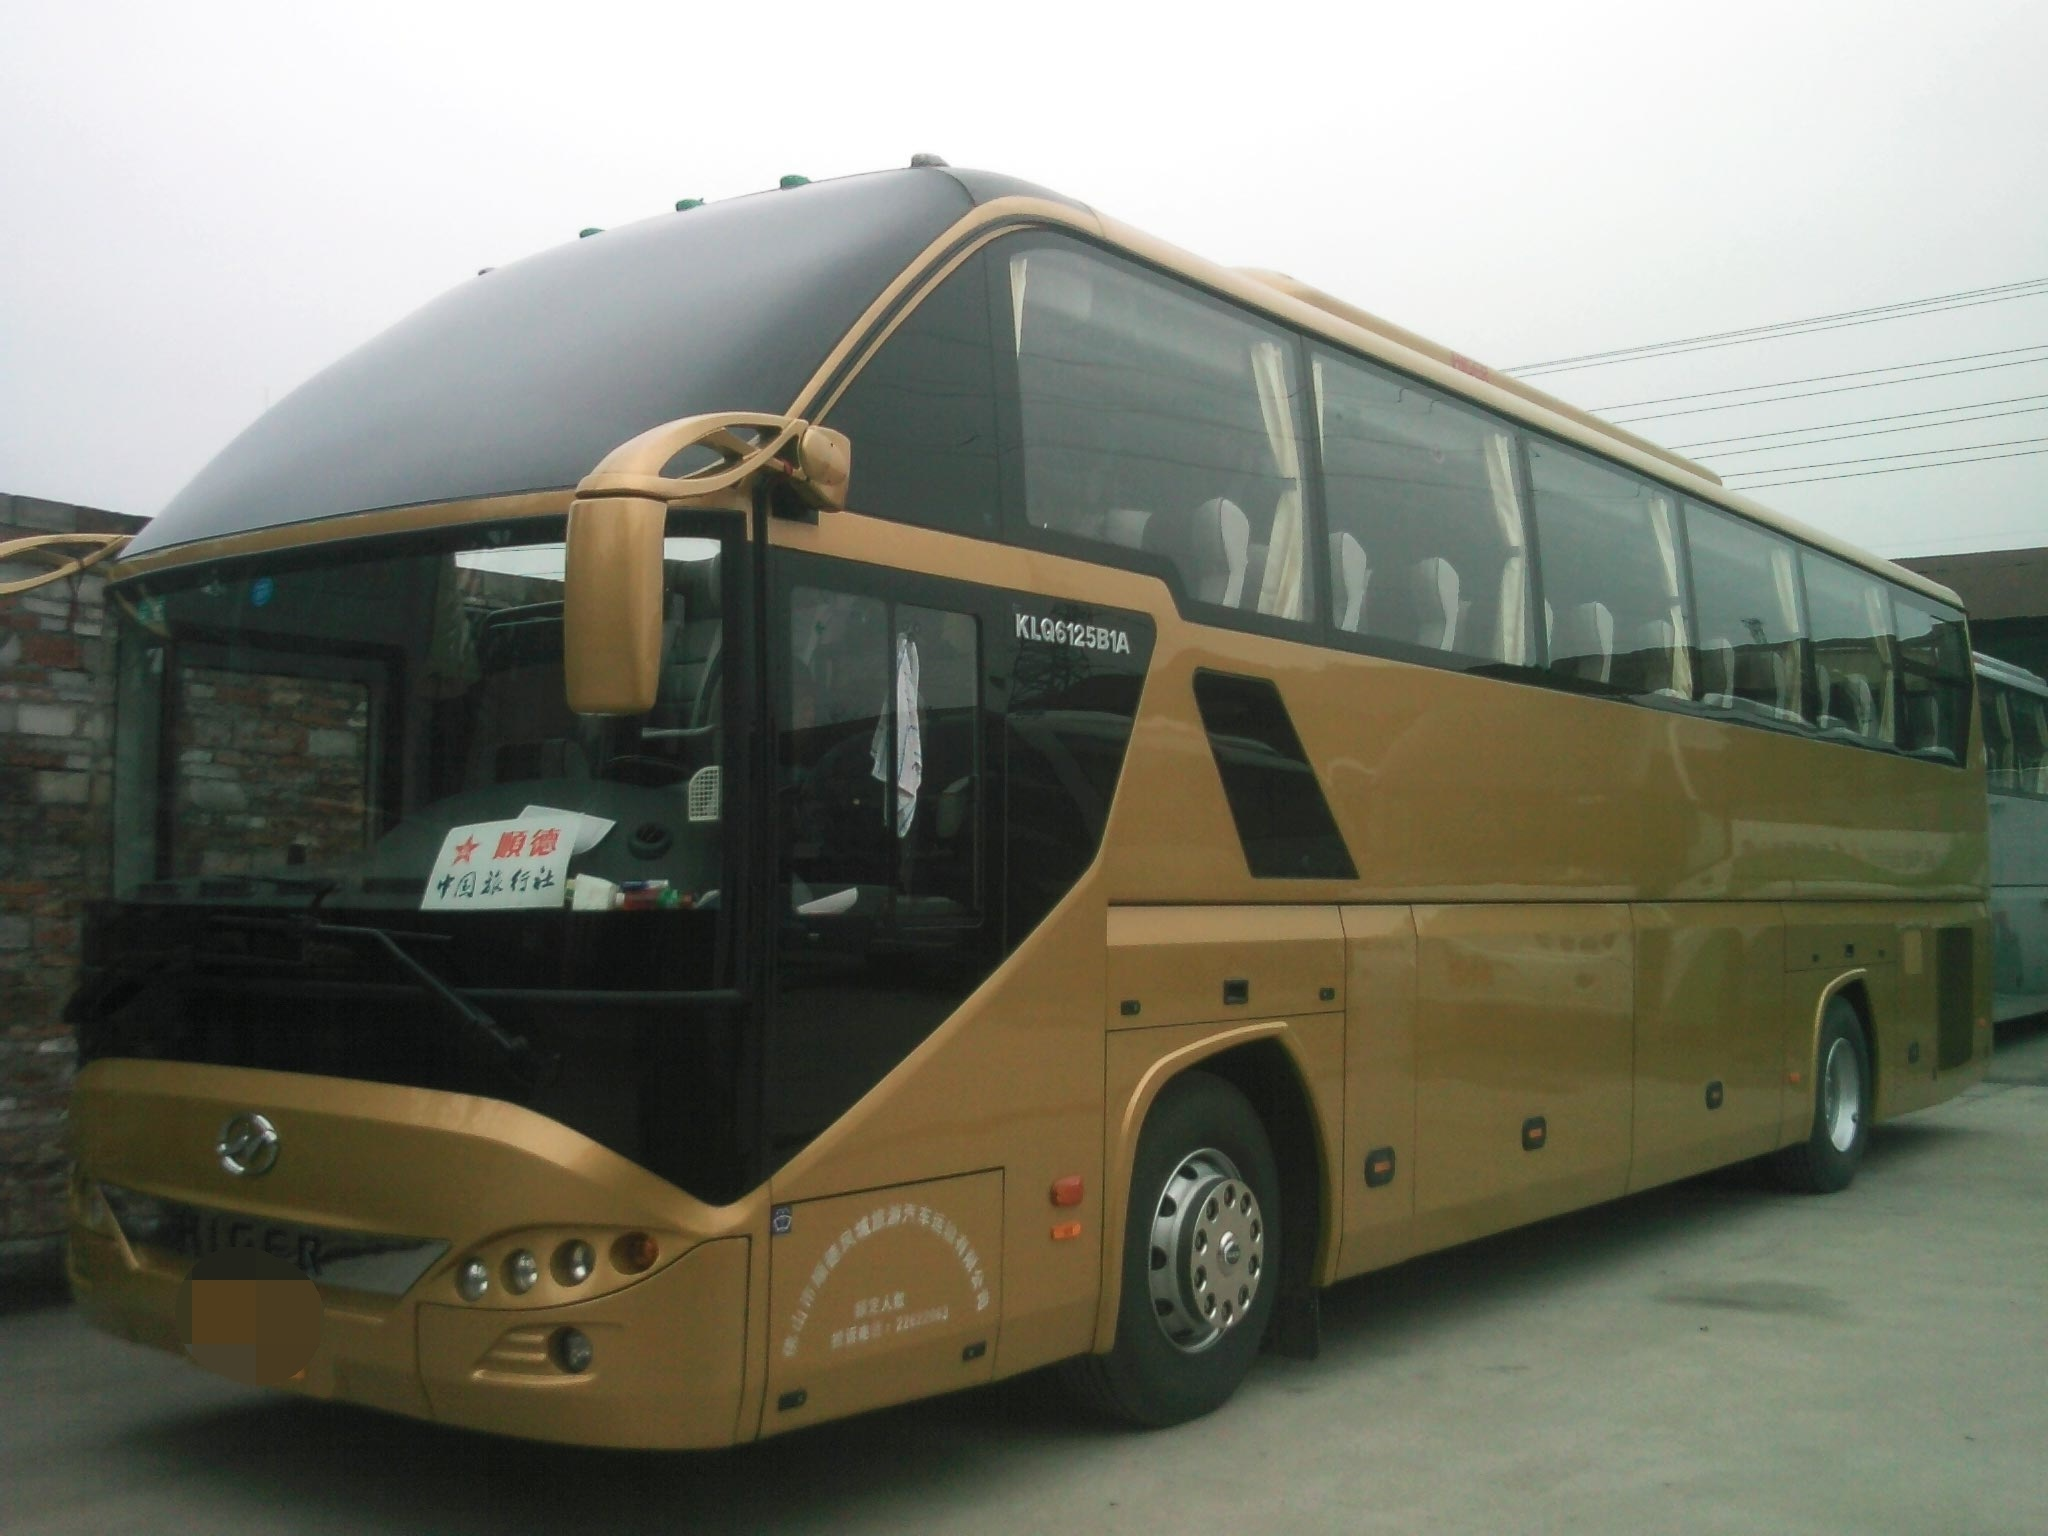bus: (102, 160, 1995, 1501)
